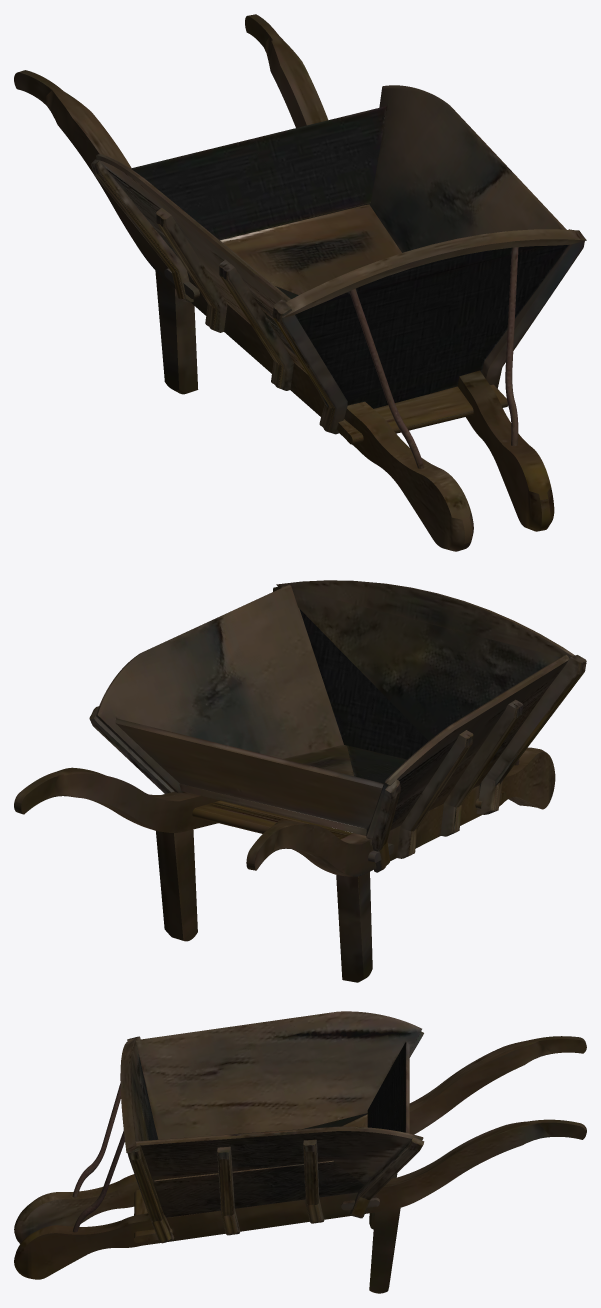
Rendered from link_1__base_body-2.glb.
3 views of the same model, one above another, from view 1: azimuth 30°, elevation 25°; view 2: azimuth 150°, elevation 25°; view 3: azimuth 270°, elevation 25° (orthographic). The views are drawn at different scales.
Visible parts, largest first — view 1: world; view 2: world; view 3: world.
Boxes of the visible parts, x1,y1,x2,y2 form: world: (14,14,586,551); world: (14,580,586,982); world: (14,1011,586,1293).
Bounding box in the file's own units: 0.761 × 0.5866 × 1.58.
Materials: 1 (1 with a texture image).
